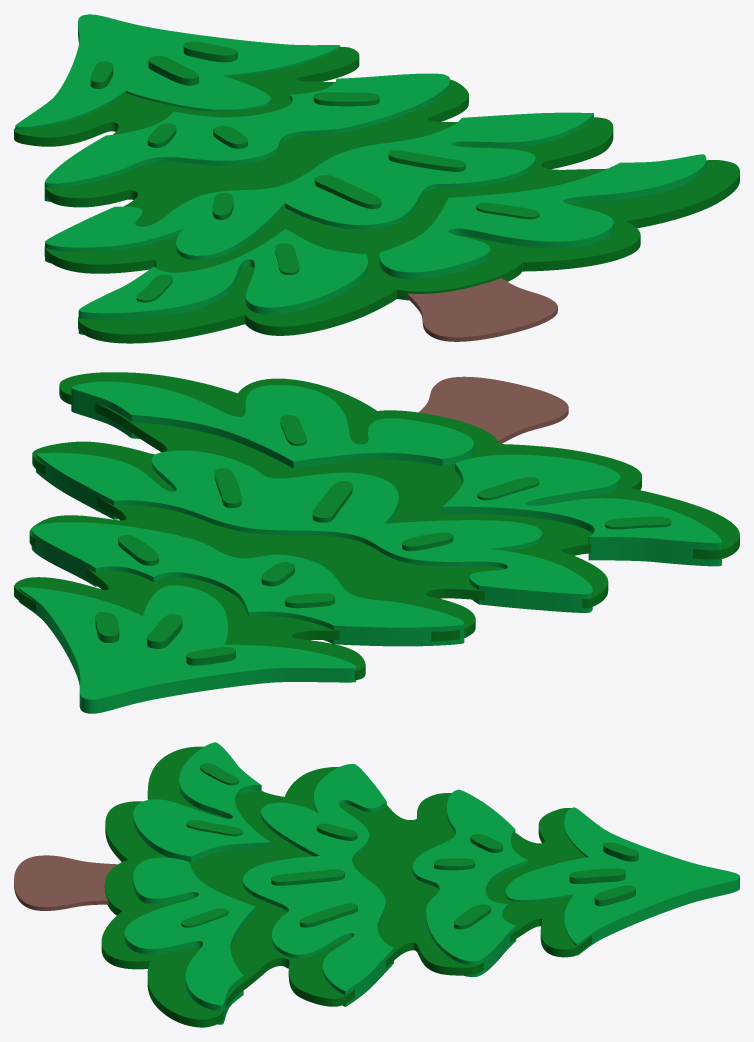
The model's file is emoji_u1f332.glb.
The picture shows the model from 3 angles, top to bottom: view 1: azimuth 30°, elevation 25°; view 2: azimuth 150°, elevation 25°; view 3: azimuth 270°, elevation 25°; orthographic projection. The views are drawn at different scales.
Parts seen in each view (by area): view 1: emoji_u1f332; view 2: emoji_u1f332; view 3: emoji_u1f332.
Part boxes in pixels (x1,y1,x2,y2): emoji_u1f332: [14, 14, 739, 343]; emoji_u1f332: [14, 372, 739, 713]; emoji_u1f332: [14, 742, 739, 1027].
Size of the model in its own units: 0.03 by 0.0012 by 0.0336.
